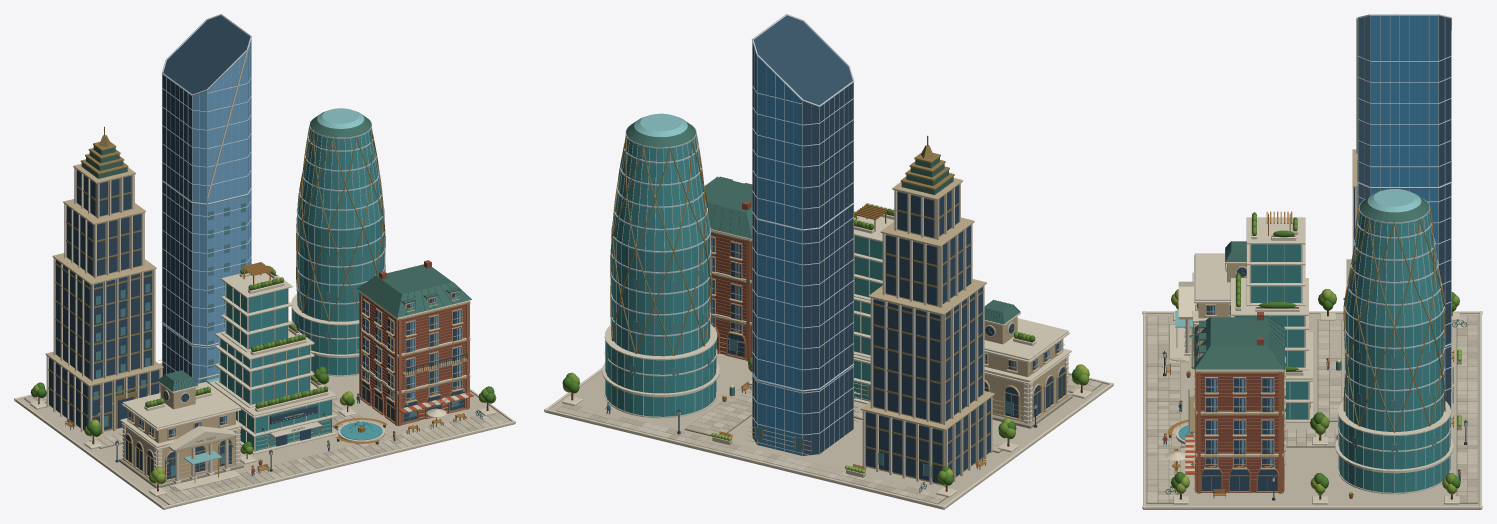
Rendered from level-7.glb.
3 views of the same model, side by side, from view 1: azimuth 30°, elevation 25°; view 2: azimuth 150°, elevation 25°; view 3: azimuth 270°, elevation 25° (orthographic). The views are drawn at different scales.
Parts seen in each view (by area): view 1: finance_tower_4_level_3_mesh, finance_tower_3_level_3_mesh, finance_tower_5_level_3_mesh, static_finance_mesh, finance_tower_2_level_3_mesh, finance_tower_1_level_3_mesh, finance_tower_0_level_3_mesh, landmark_additions_geometry; view 2: finance_tower_4_level_3_mesh, finance_tower_3_level_3_mesh, finance_tower_5_level_3_mesh, static_finance_mesh, finance_tower_0_level_3_mesh, finance_tower_2_level_3_mesh, finance_tower_1_level_3_mesh, landmark_additions_geometry; view 3: finance_tower_5_level_3_mesh, static_finance_mesh, finance_tower_4_level_3_mesh, finance_tower_2_level_3_mesh, finance_tower_1_level_3_mesh, finance_tower_0_level_3_mesh, landmark_additions_geometry, finance_tower_3_level_3_mesh.
Part boxes in pixels (box(x1,y1,x2,y2)): finance_tower_4_level_3_mesh: box(161, 14, 251, 384); finance_tower_3_level_3_mesh: box(45, 126, 163, 436); finance_tower_5_level_3_mesh: box(291, 108, 385, 376); static_finance_mesh: box(14, 362, 515, 509); finance_tower_2_level_3_mesh: box(357, 260, 473, 425); finance_tower_1_level_3_mesh: box(209, 262, 336, 454); finance_tower_0_level_3_mesh: box(119, 370, 243, 490); landmark_additions_geometry: box(93, 203, 482, 482); finance_tower_4_level_3_mesh: box(752, 14, 855, 456); finance_tower_3_level_3_mesh: box(860, 135, 994, 487); finance_tower_5_level_3_mesh: box(602, 113, 719, 418); static_finance_mesh: box(544, 353, 1113, 509); finance_tower_0_level_3_mesh: box(984, 299, 1072, 428); finance_tower_2_level_3_mesh: box(704, 176, 752, 361); finance_tower_1_level_3_mesh: box(854, 203, 894, 404); landmark_additions_geometry: box(605, 265, 1023, 492); finance_tower_5_level_3_mesh: box(1335, 189, 1453, 494); static_finance_mesh: box(1142, 289, 1482, 509); finance_tower_4_level_3_mesh: box(1356, 14, 1451, 408); finance_tower_2_level_3_mesh: box(1185, 312, 1285, 493); finance_tower_1_level_3_mesh: box(1230, 211, 1312, 422); finance_tower_0_level_3_mesh: box(1169, 241, 1246, 368); landmark_additions_geometry: box(1165, 297, 1467, 494); finance_tower_3_level_3_mesh: box(1346, 14, 1396, 285).
Bounding box in the file's own units: 60 × 57.7 × 44.
